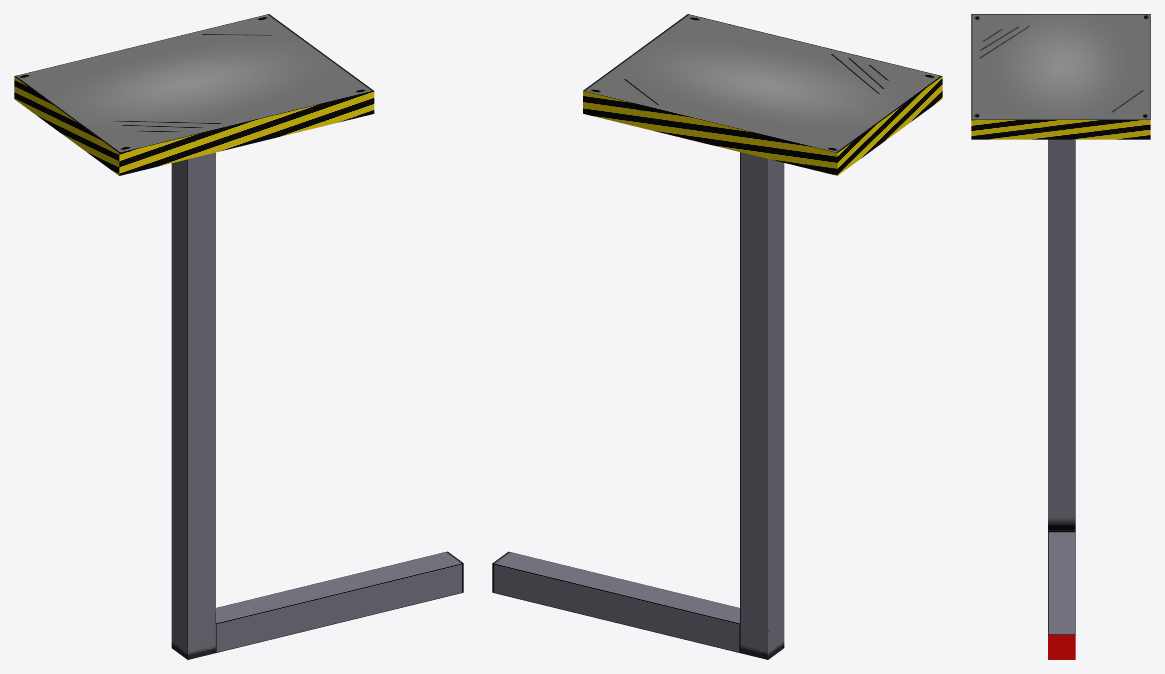
The model's file is Objeto3.glb.
The picture shows the model from 3 angles, left to right: view 1: azimuth 30°, elevation 25°; view 2: azimuth 150°, elevation 25°; view 3: azimuth 270°, elevation 25°; orthographic projection. The views are drawn at different scales.
Parts seen in each view (by area): view 1: SubeBaja; view 2: SubeBaja; view 3: SubeBaja.
Boxes of the visible parts, <box> form: SubeBaja: <box>14,14,463,659</box>; SubeBaja: <box>492,14,942,659</box>; SubeBaja: <box>971,14,1150,659</box>.
Size of the model in its own units: 5.56 by 7.74 by 2.6.
3 materials, 3 textured.
